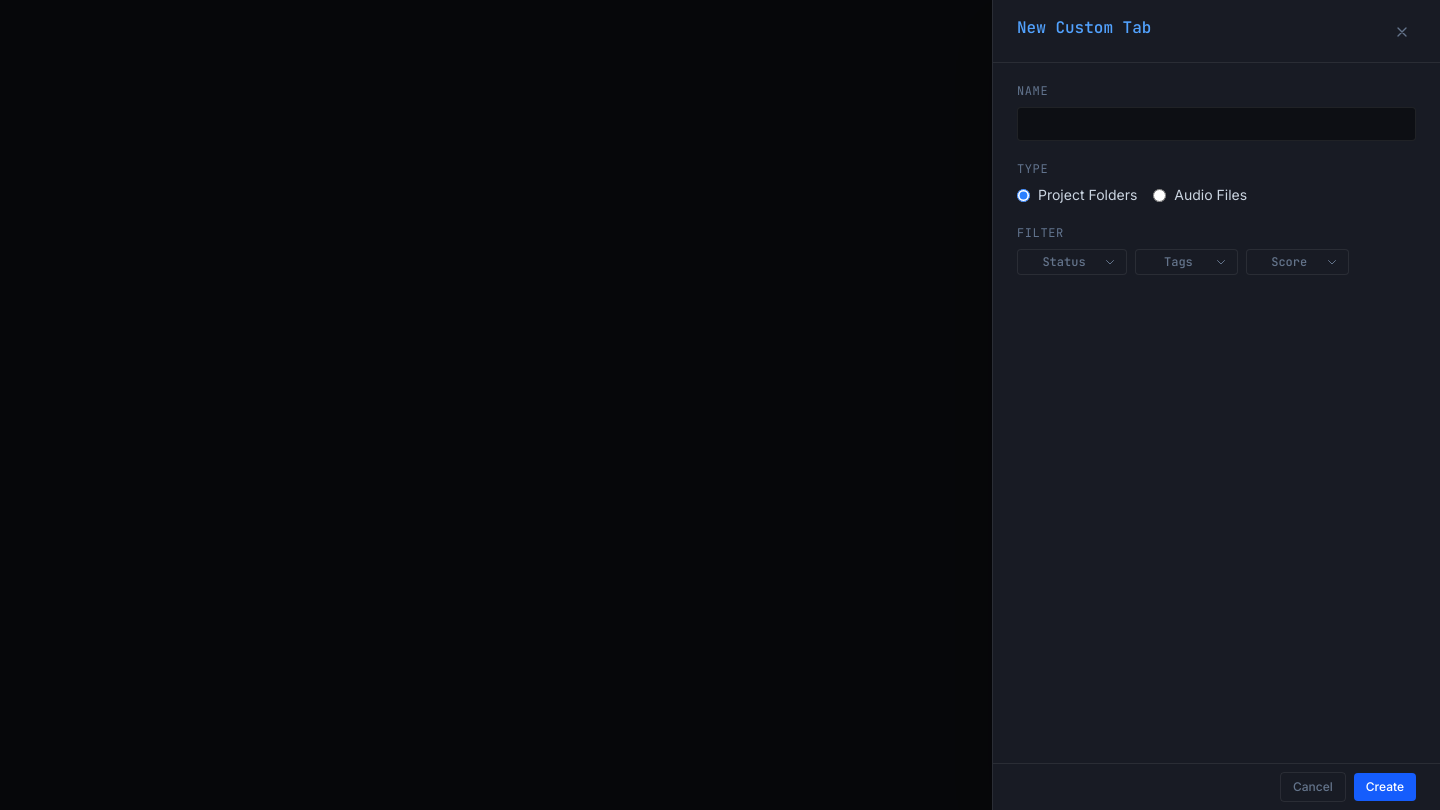
Test: CreateCustomTabModal - Locations filter (files-only) › renders the Locations radio group, defaulted to 'All locations', once 'Audio Files' is selected
Click the radio button labelled "Audio Files".
click(1160, 195)  # box x1=1153 y1=188 x2=1166 y2=202
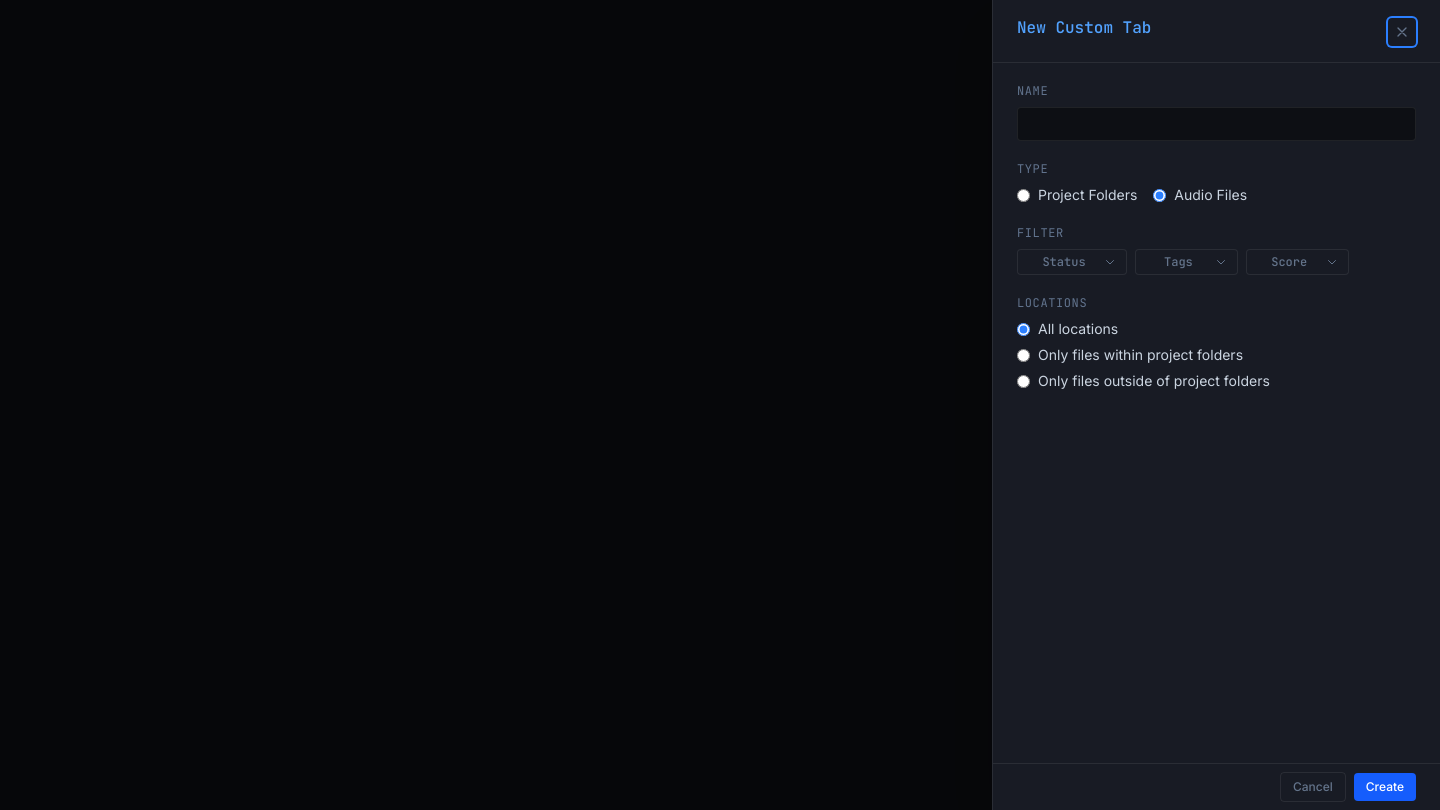
Expected: the radio button labelled "All locations" is checked, x1=1017 y1=322 x2=1030 y2=336
Expected: the radio button labelled "Only files within project folders" is not checked, x1=1017 y1=348 x2=1030 y2=362
Expected: the radio button labelled "Only files outside of project folders" is not checked, x1=1017 y1=374 x2=1030 y2=388
